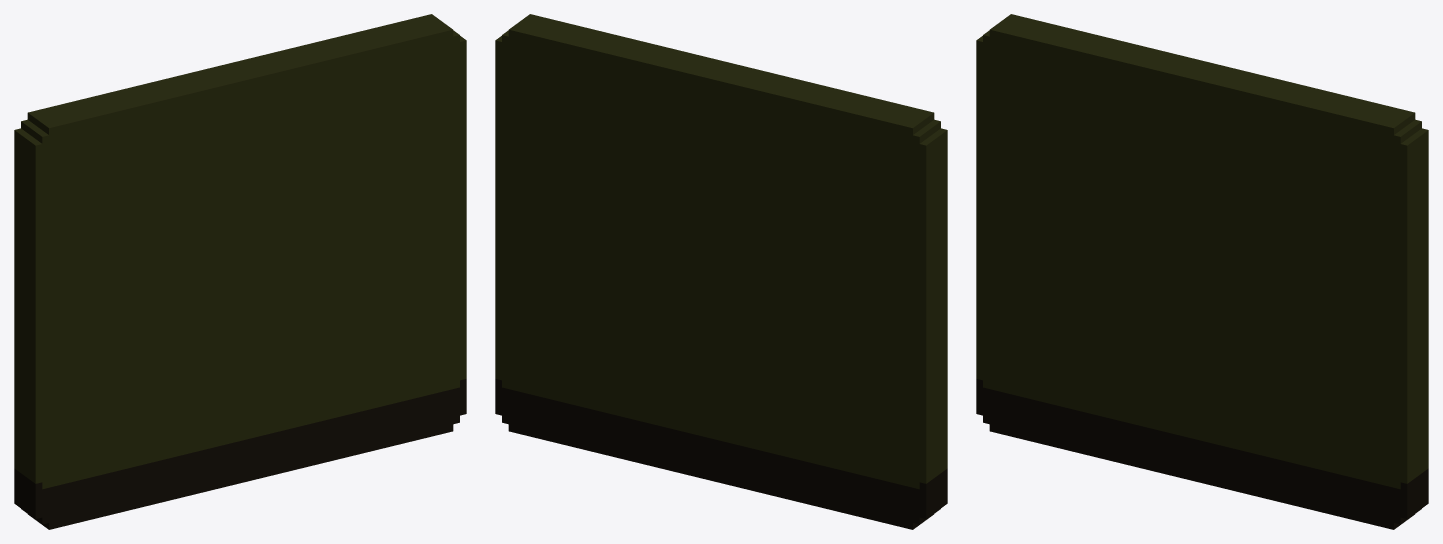
The model's file is radar_base_uc.fbx.
3 renders of one model, left to right at view 1: azimuth 30°, elevation 25°; view 2: azimuth 150°, elevation 25°; view 3: azimuth 330°, elevation 25°, orthographic.
Visible parts, largest first — view 1: generated; view 2: generated; view 3: generated.
Part boxes in pixels (bbox=[...]): generated: bbox=[14, 14, 466, 529]; generated: bbox=[495, 14, 947, 529]; generated: bbox=[976, 14, 1428, 529].
Bounding box in the file's own units: 640 × 570 × 55.
